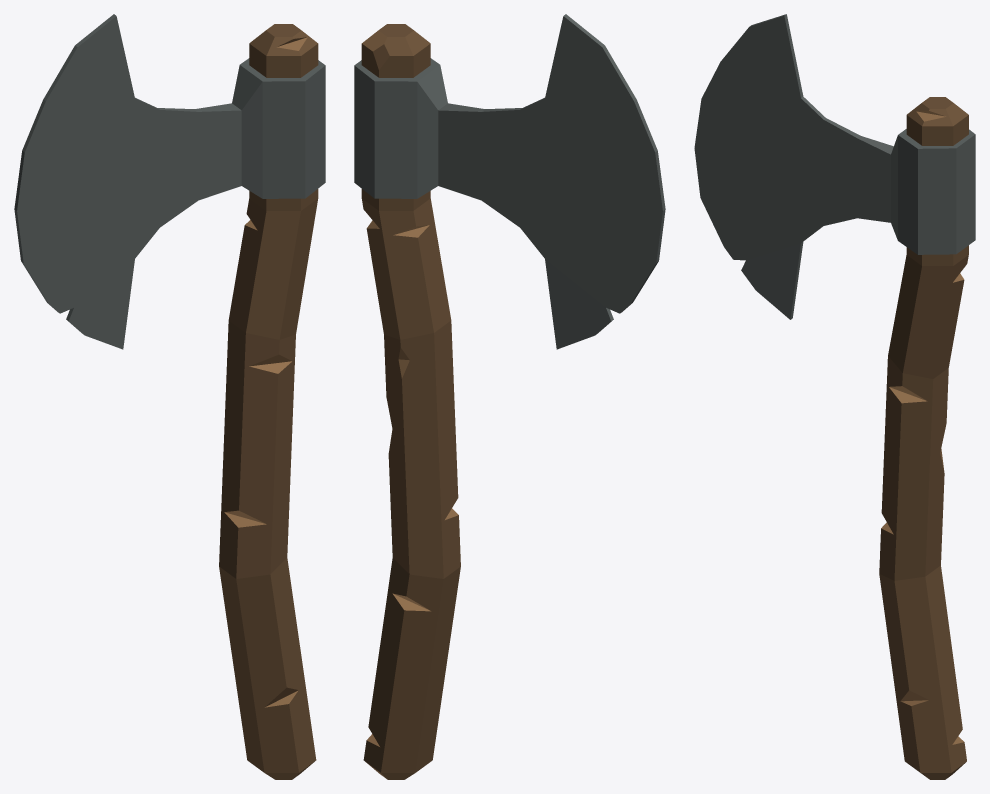
File: Axe_3_Brown.fbx
3 renders of one model, left to right at view 1: azimuth 30°, elevation 25°; view 2: azimuth 150°, elevation 25°; view 3: azimuth 330°, elevation 25°, orthographic. The views are drawn at different scales.
Visible parts, largest first — view 1: Axe_3_Brown_Part_3, Axe_3_Brown_Part_1, Axe_3_Brown_Part_2; view 2: Axe_3_Brown_Part_3, Axe_3_Brown_Part_1, Axe_3_Brown_Part_2; view 3: Axe_3_Brown_Part_3, Axe_3_Brown_Part_1, Axe_3_Brown_Part_2.
Part boxes in pixels (x1,y1,x2,y2): Axe_3_Brown_Part_3: [14, 14, 325, 349]; Axe_3_Brown_Part_1: [219, 24, 318, 779]; Axe_3_Brown_Part_2: [224, 37, 307, 707]; Axe_3_Brown_Part_3: [354, 14, 665, 349]; Axe_3_Brown_Part_1: [361, 24, 460, 779]; Axe_3_Brown_Part_2: [362, 30, 458, 746]; Axe_3_Brown_Part_3: [694, 14, 975, 319]; Axe_3_Brown_Part_1: [879, 97, 968, 779]; Axe_3_Brown_Part_2: [881, 110, 964, 744].
Bounding box in the file's own units: 43.03 × 110 × 10.87.
